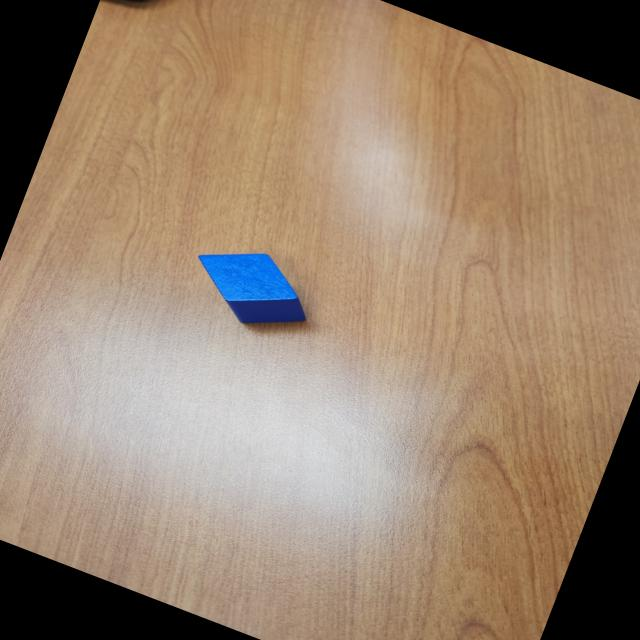blue: (180, 230, 324, 346)
